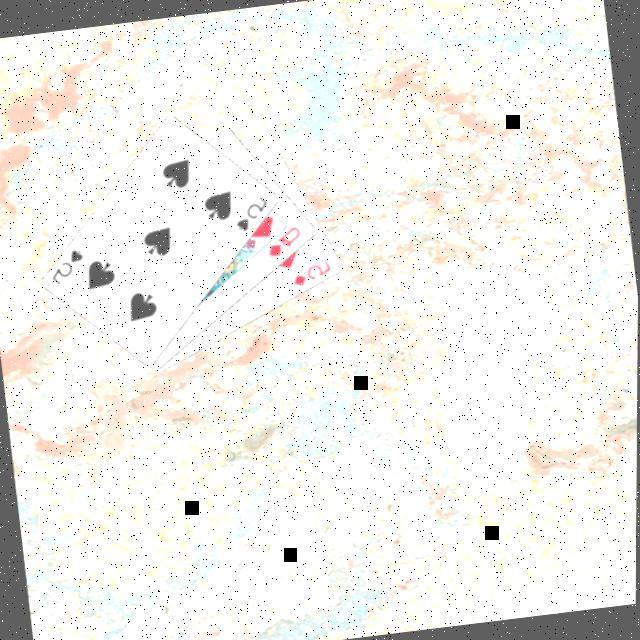5D: (285, 257, 334, 292)
5S: (227, 192, 273, 237), (43, 245, 88, 290)
QD: (261, 224, 305, 262)
